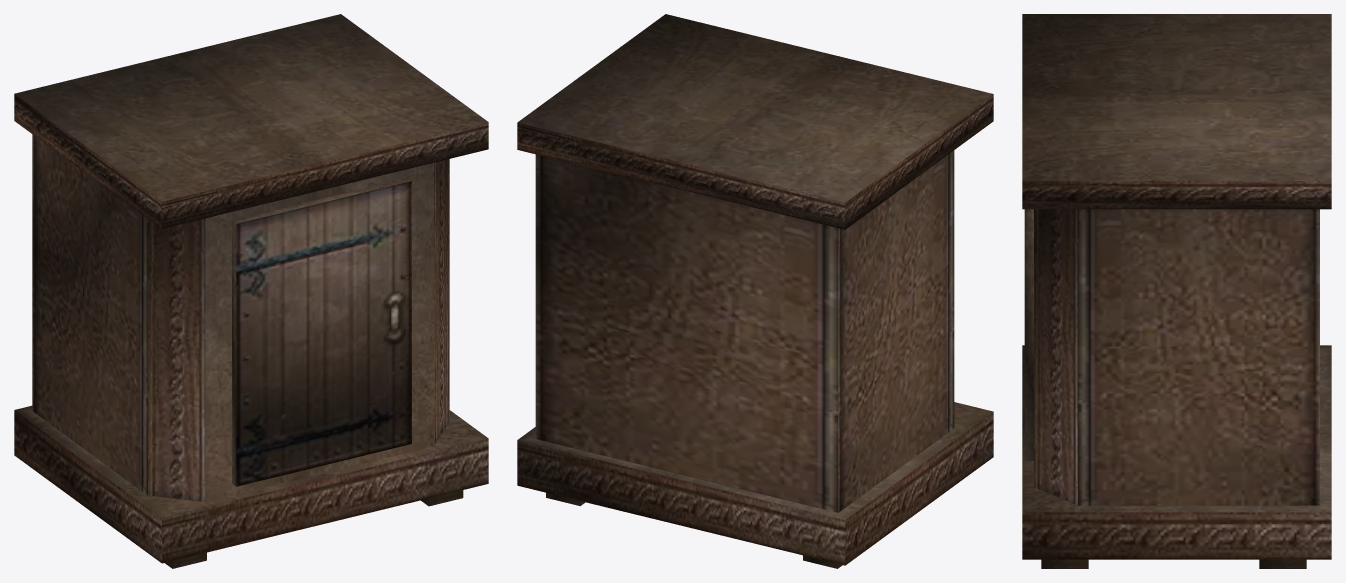
File: GS_VOB_BEDCASE_POOR_01_KOZA.glb
3 renders of one model, left to right at view 1: azimuth 30°, elevation 25°; view 2: azimuth 150°, elevation 25°; view 3: azimuth 270°, elevation 25°, orthographic. The views are drawn at different scales.
Parts seen in each view (by area): view 1: Mesh; view 2: Mesh; view 3: Mesh.
Part boxes in pixels (left/top/right/bottom): Mesh: left=14, top=14, right=488, bottom=568; Mesh: left=517, top=14, right=993, bottom=568; Mesh: left=1022, top=14, right=1331, bottom=568.
Bounding box in the file's own units: 0.8159 × 0.9034 × 0.6392.
Materials: 2 (2 with a texture image).
